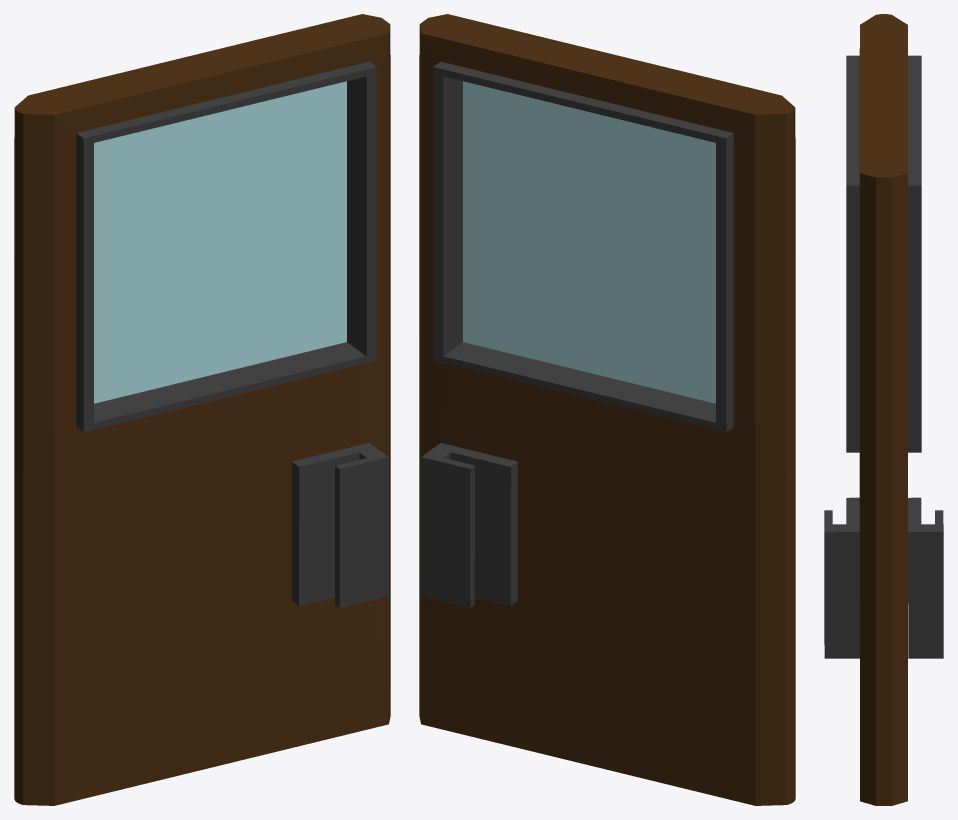
The model's file is doorWindowed_GEO.fbx.
The picture shows the model from 3 angles, left to right: view 1: azimuth 30°, elevation 25°; view 2: azimuth 150°, elevation 25°; view 3: azimuth 270°, elevation 25°; orthographic projection. The views are drawn at different scales.
Visible parts, largest first — view 1: doorWindow.002; view 2: doorWindow.002; view 3: doorWindow.002.
Boxes of the visible parts, x1,y1,x2,y2 form: doorWindow.002: [14, 14, 390, 805]; doorWindow.002: [419, 14, 795, 805]; doorWindow.002: [824, 14, 943, 805].
Bounding box in the file's own units: 140 × 250 × 43.07.
